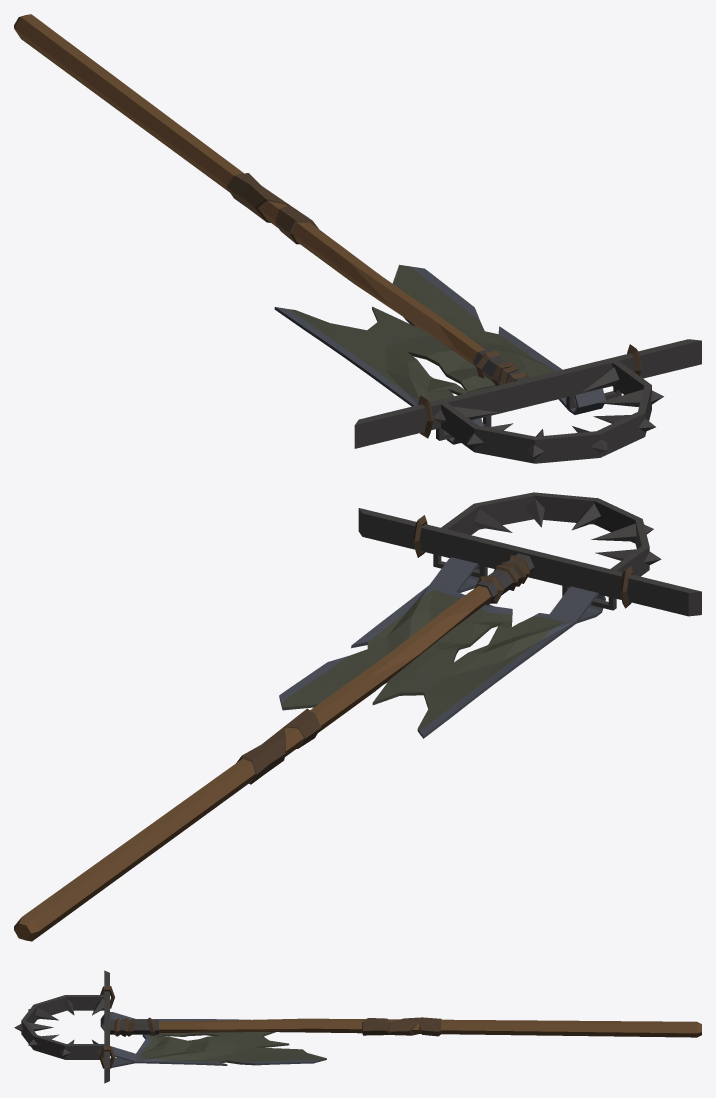
The model's file is SM_Banner_Orc.fbx.
The picture shows the model from 3 angles, top to bottom: view 1: azimuth 30°, elevation 25°; view 2: azimuth 150°, elevation 25°; view 3: azimuth 270°, elevation 25°; orthographic projection. The views are drawn at different scales.
Visible parts, largest first — view 1: SM_Banner_Orc; view 2: SM_Banner_Orc; view 3: SM_Banner_Orc.
Boxes of the visible parts, x1,y1,x2,y2 form: SM_Banner_Orc: (14, 14, 701, 463); SM_Banner_Orc: (14, 492, 701, 941); SM_Banner_Orc: (14, 970, 701, 1083).
Bounding box in the file's own units: 1.13 × 0.1653 × 3.3.
